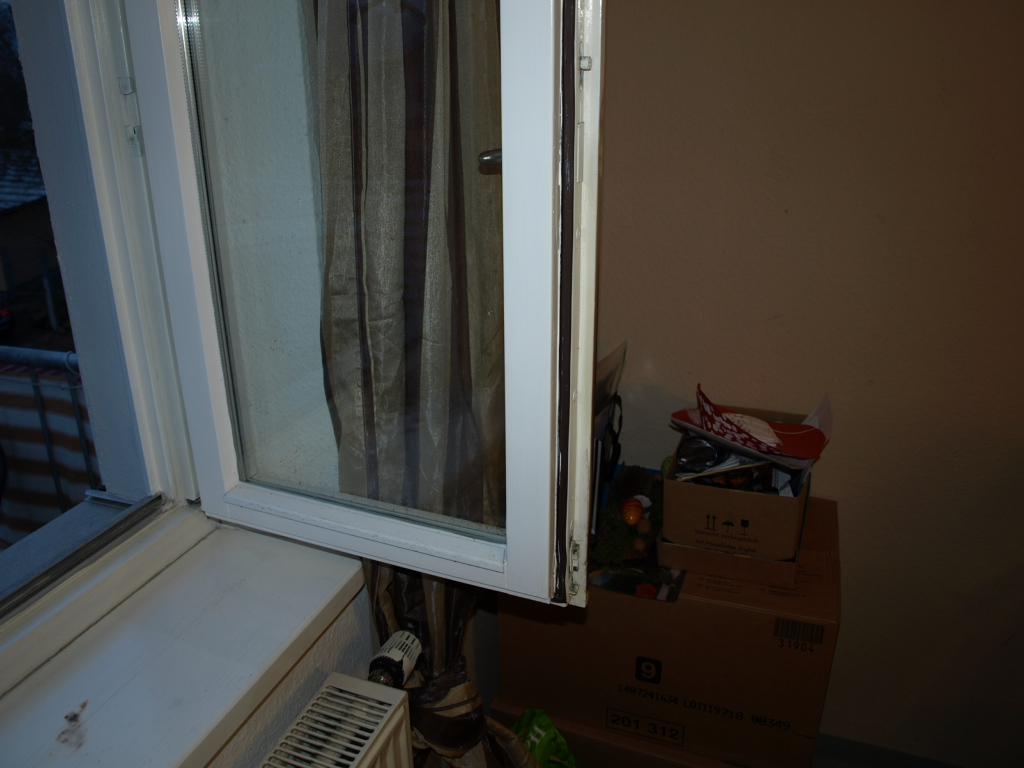windows: (177, 6, 551, 592)
